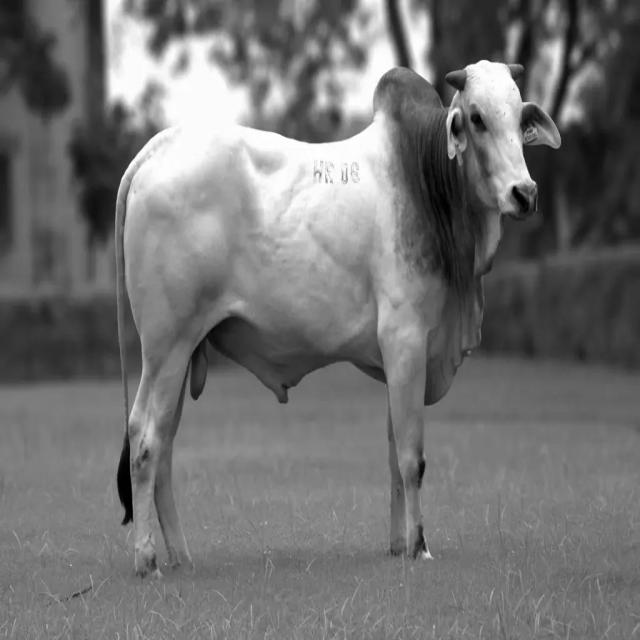Cow: (113, 57, 562, 579)
